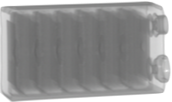9V: (2, 7, 169, 98)
